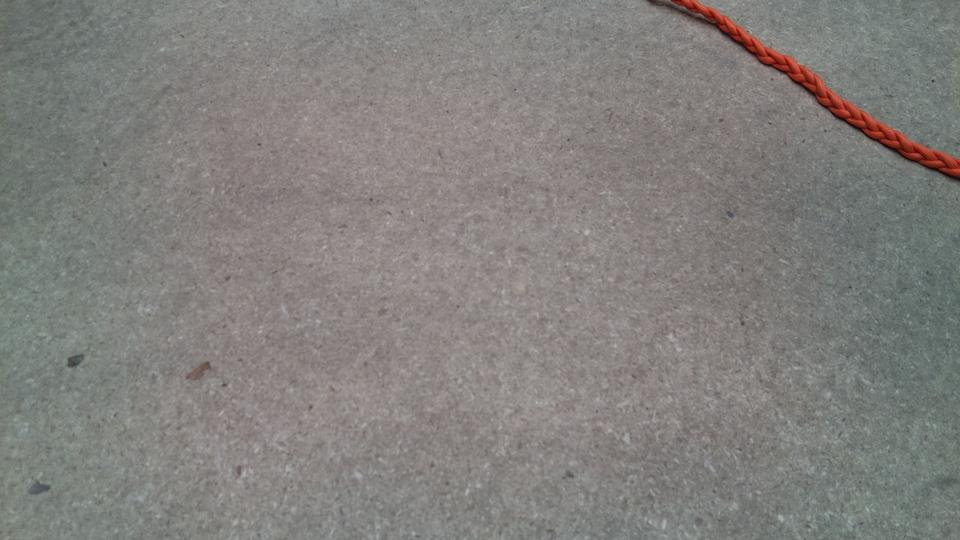rope: (678, 1, 959, 168)
